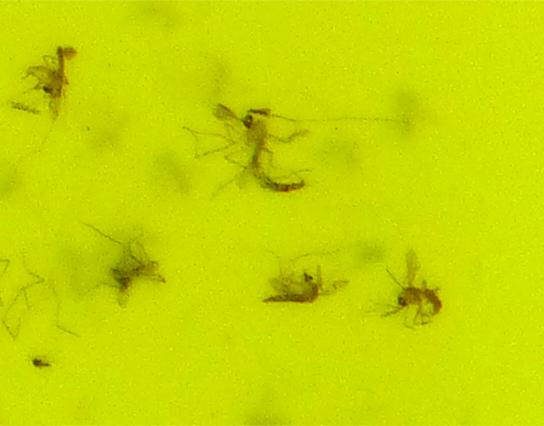Nematocera: (211, 100, 308, 195), (382, 252, 444, 326), (100, 236, 166, 305), (261, 269, 348, 305)
